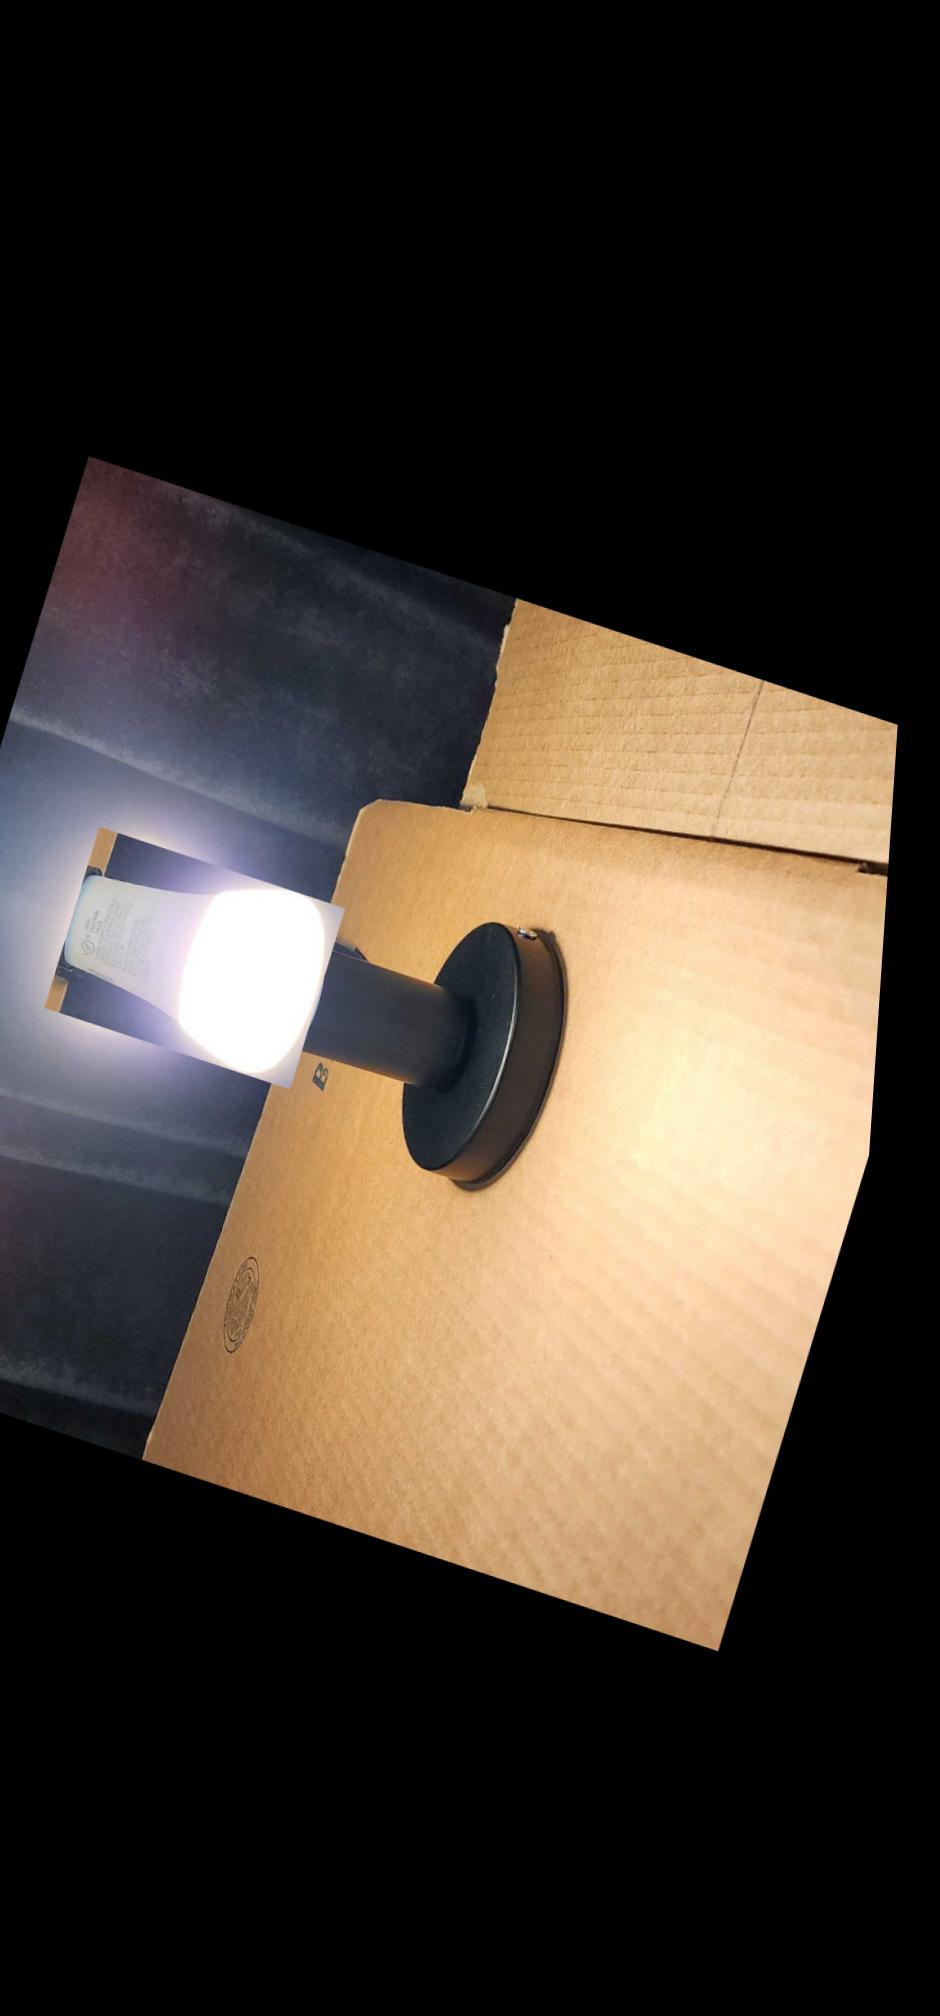TubeLight: (54, 820, 359, 1085)
